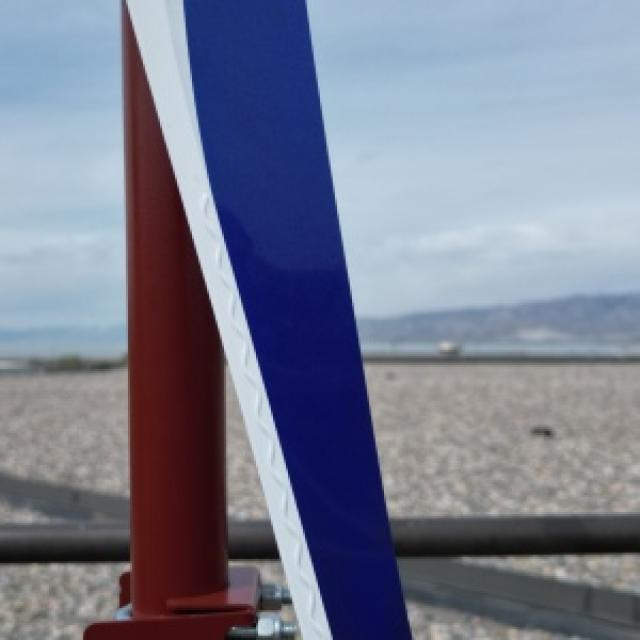healthy: (83, 0, 407, 638)
